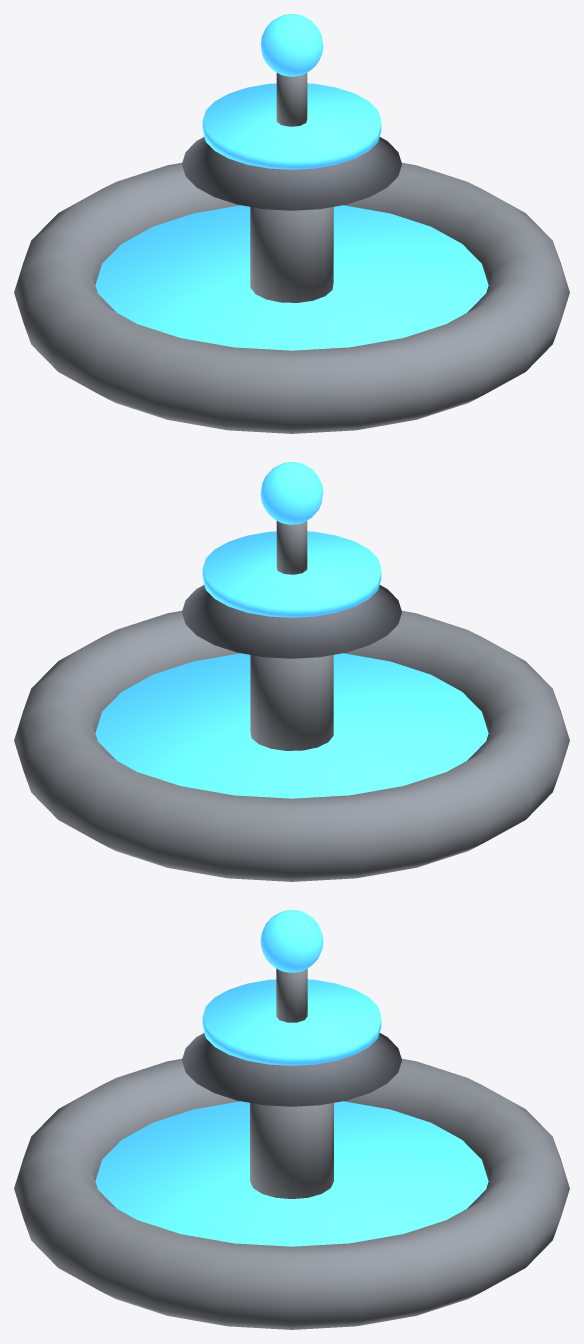
File: fountain.glb
3 views of the same model, one above another, from view 1: azimuth 30°, elevation 25°; view 2: azimuth 150°, elevation 25°; view 3: azimuth 270°, elevation 25° (orthographic).
Parts seen in each view (by area): view 1: basin, water_low, water_top, bowl, column, spray, spout; view 2: basin, water_low, water_top, bowl, column, spray, spout; view 3: basin, water_low, water_top, bowl, column, spray, spout.
Part boxes in pixels (bbox=[...]): basin: bbox=[14, 162, 569, 433]; water_low: bbox=[95, 205, 488, 350]; water_top: bbox=[202, 83, 381, 169]; bowl: bbox=[182, 137, 401, 210]; column: bbox=[250, 207, 333, 302]; spray: bbox=[260, 14, 323, 76]; spout: bbox=[276, 73, 307, 126]; basin: bbox=[14, 610, 569, 881]; water_low: bbox=[95, 653, 488, 798]; water_top: bbox=[202, 531, 381, 617]; bowl: bbox=[182, 585, 401, 658]; column: bbox=[250, 655, 333, 750]; spray: bbox=[260, 462, 323, 524]; spout: bbox=[276, 521, 307, 574]; basin: bbox=[14, 1058, 569, 1329]; water_low: bbox=[95, 1101, 488, 1246]; water_top: bbox=[202, 979, 381, 1065]; bowl: bbox=[182, 1033, 401, 1106]; column: bbox=[250, 1103, 333, 1198]; spray: bbox=[260, 910, 323, 972]; spout: bbox=[276, 968, 307, 1022].
Size of the model in its own units: 2.12 by 1.31 by 2.12.
